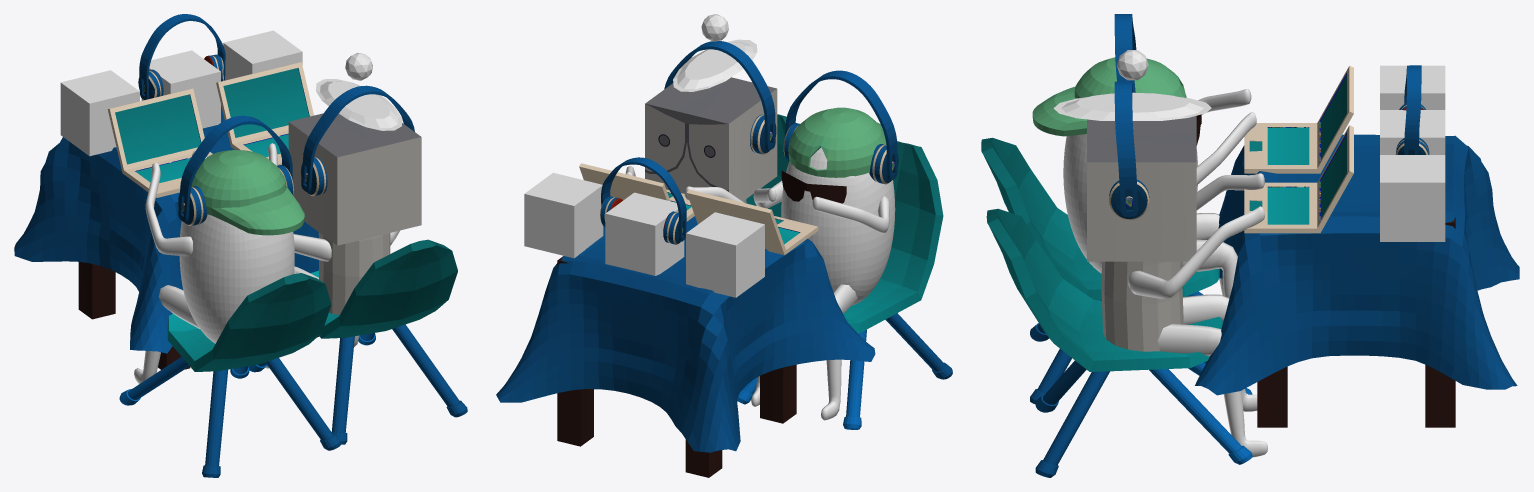
File: SM_Bagd_01.fbx
3 renders of one model, left to right at view 1: azimuth 30°, elevation 25°; view 2: azimuth 150°, elevation 25°; view 3: azimuth 270°, elevation 25°, orthographic. The views are drawn at different scales.
Parts seen in each view (by area): view 1: Cube.017, Plane.056, Cube.032, Plane.058, Cube.023, Plane.059, Cube.024, Plane.060, Cube.020, Cylinder.032, Cube.021, Cylinder.028 (+9 smaller); view 2: Cube.017, Cube.032, Plane.056, Cube.023, Cube.020, Cube.022, Cube.024, Cube.021, Cube.018, Plane.059, Cylinder.028, Cylinder.033 (+9 smaller); view 3: Cube.017, Plane.058, Cube.032, Plane.056, Cube.022, Plane.059, Cylinder.032, Plane.060, Cube.031, Cube.024, Cube.030, Cube.018 (+10 smaller).
Part boxes in pixels (left/top/right/bottom): Cube.017: left=14, top=105, right=318, bottom=353; Plane.056: left=119, top=273, right=340, bottom=477; Cube.032: left=288, top=113, right=421, bottom=245; Plane.058: left=248, top=239, right=467, bottom=444; Cube.023: left=179, top=214, right=294, bottom=343; Plane.059: left=107, top=88, right=212, bottom=197; Cube.024: left=191, top=150, right=304, bottom=235; Plane.060: left=216, top=62, right=313, bottom=165; Cube.020: left=60, top=70, right=139, bottom=156; Cylinder.032: left=318, top=232, right=390, bottom=314; Cube.021: left=141, top=50, right=220, bottom=128; Cylinder.028: left=178, top=115, right=293, bottom=226; Cube.017: left=496, top=216, right=875, bottom=452; Cube.032: left=645, top=77, right=777, bottom=201; Plane.056: left=737, top=141, right=952, bottom=429; Cube.023: left=781, top=147, right=895, bottom=305; Cube.020: left=686, top=212, right=764, bottom=297; Cube.022: left=524, top=172, right=603, bottom=258; Cube.024: left=788, top=107, right=886, bottom=177; Cube.021: left=605, top=192, right=684, bottom=275; Cube.018: left=557, top=256, right=796, bottom=477; Plane.059: left=687, top=189, right=818, bottom=255; Cylinder.028: left=783, top=70, right=898, bottom=184; Cylinder.033: left=664, top=41, right=776, bottom=154; Cube.017: left=1195, top=134, right=1519, bottom=395; Plane.058: left=986, top=208, right=1252, bottom=477; Cube.032: left=1087, top=116, right=1196, bottom=261; Plane.056: left=981, top=137, right=1219, bottom=404; Cube.022: left=1380, top=155, right=1445, bottom=241; Plane.059: left=1244, top=65, right=1353, bottom=173; Cylinder.032: left=1101, top=261, right=1183, bottom=351; Plane.060: left=1244, top=125, right=1353, bottom=233; Cube.031: left=1157, top=294, right=1267, bottom=457; Cube.024: left=1032, top=57, right=1186, bottom=136; Cube.030: left=1128, top=173, right=1264, bottom=298; Cube.018: left=1257, top=217, right=1455, bottom=427.
Bounding box in the file's own units: 358 × 449 × 557.
